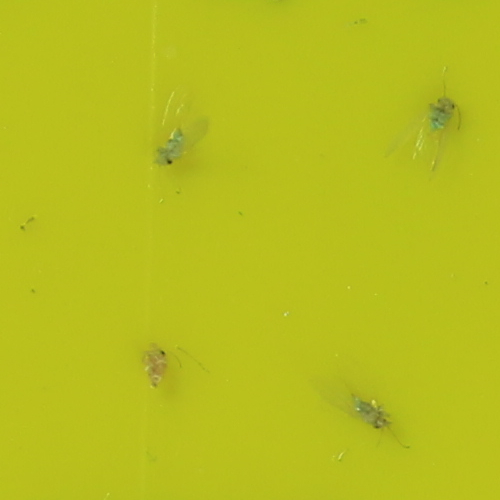Glycaspis: (351, 392, 394, 431), (152, 124, 187, 167), (140, 340, 167, 389), (427, 95, 457, 131)
